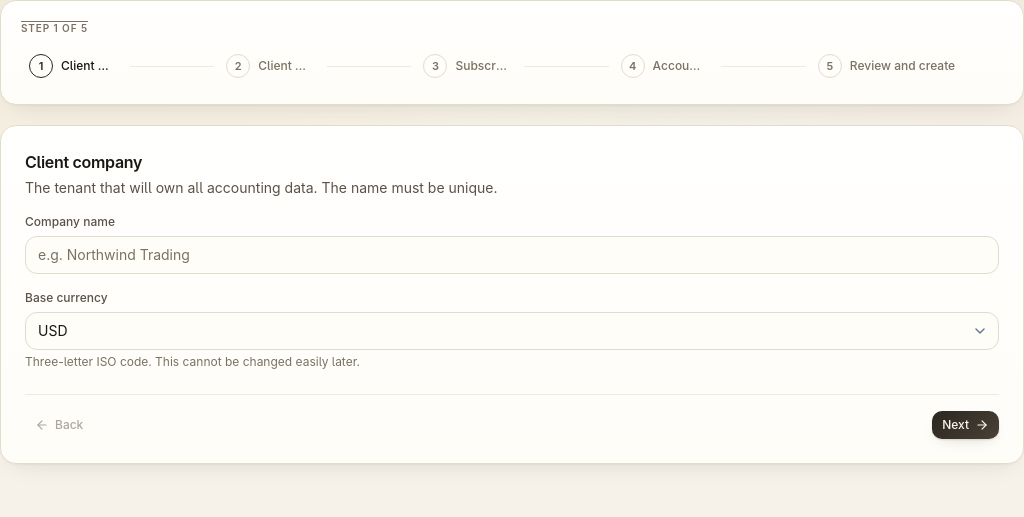
Test: client onboarding wizard › refuses to leave the first step without a company name
The image size is (1024, 517).
Click the button "Next" at (966, 425), box [932,411,999,439]
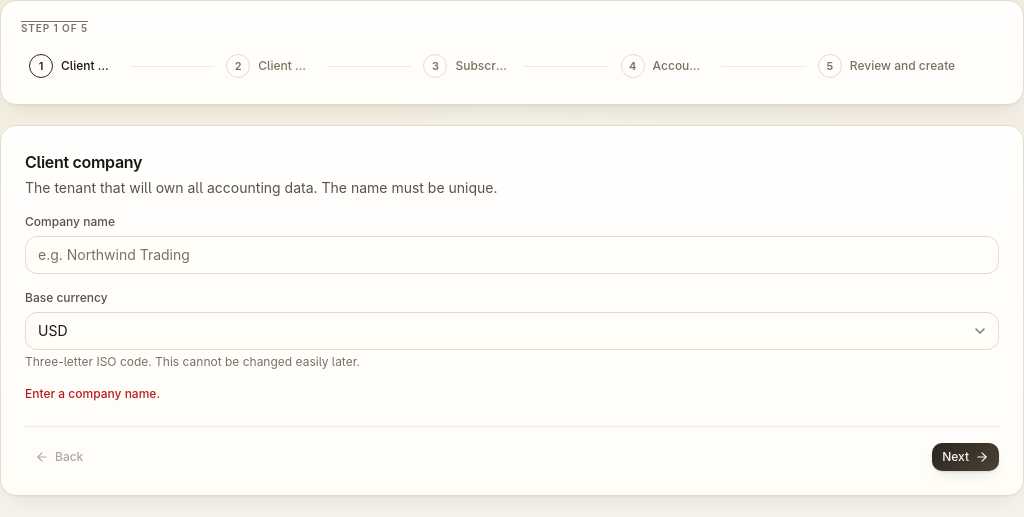
Check: the field labelled "Company name" is shown, box [25,236,999,274]
Check: the text "Enter a company name." is shown, box [25,386,160,401]
